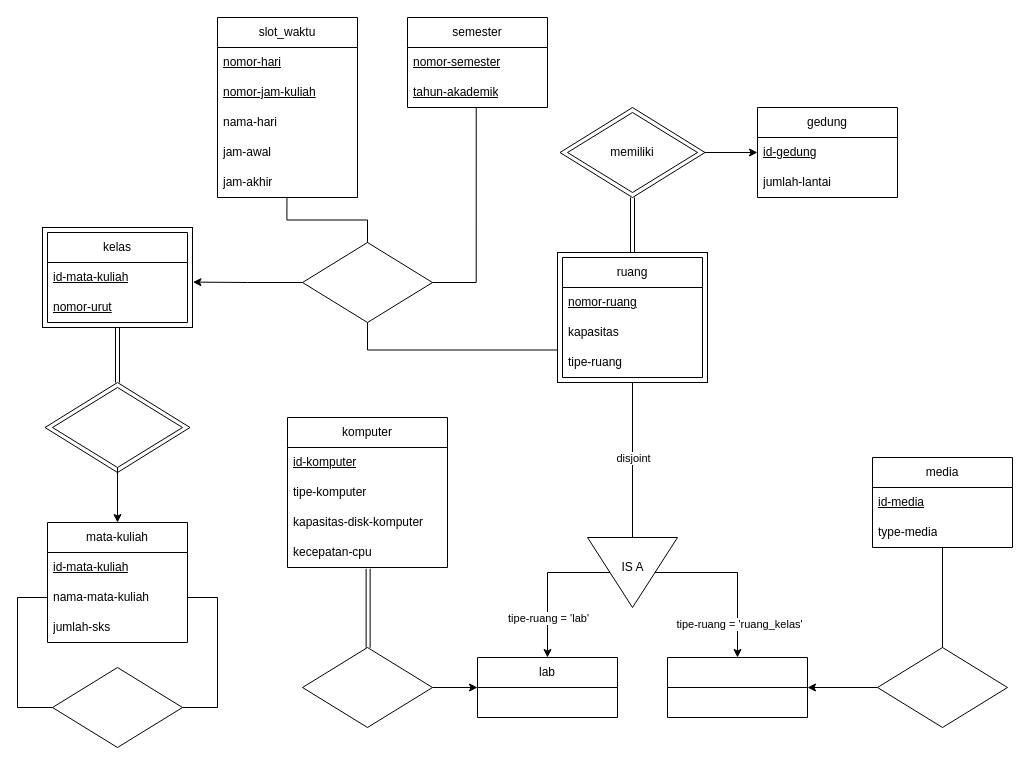
Image size: 1030x765. Some labels were removed from this diagram. Each missing label, with the centre of its shape:
jadwal: pixel 367 282
mempunyai: pixel 942 687
mengambil: pixel 117 427
mengharuskan: pixel 117 707
ruang_kelas: pixel 737 687
terdapat: pixel 367 687
